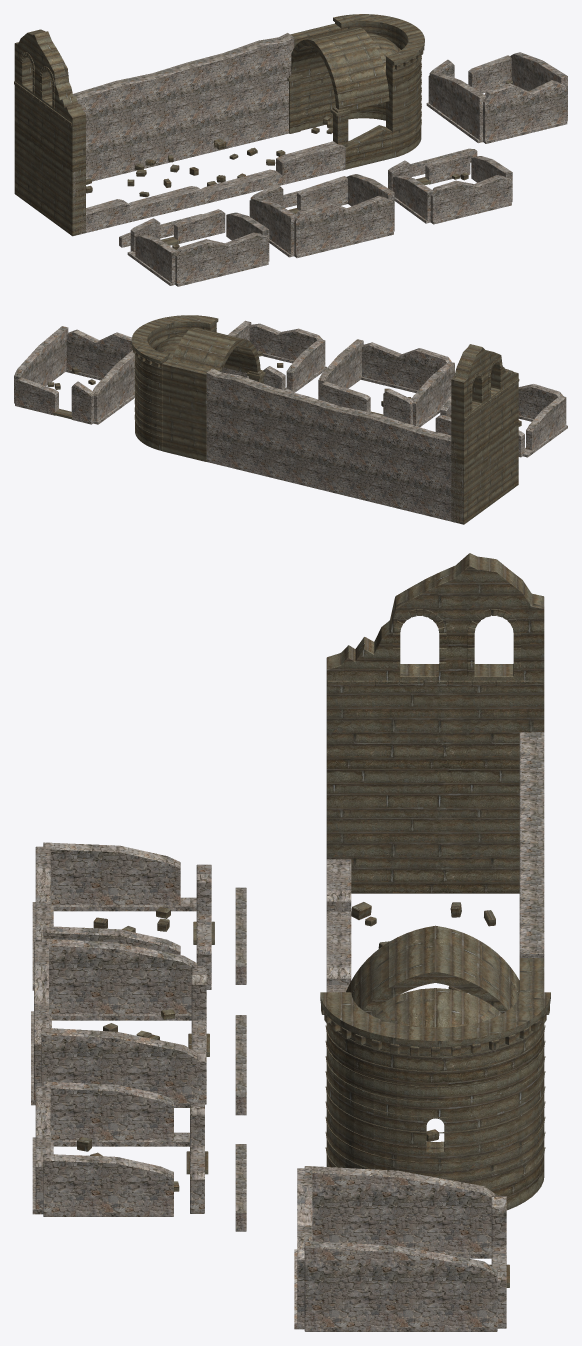
Rendered from duero76_linares512.glb.
3 renders of one model, top to bottom at view 1: azimuth 30°, elevation 25°; view 2: azimuth 150°, elevation 25°; view 3: azimuth 270°, elevation 25°, orthographic. The views are drawn at different scales.
Parts seen in each view (by area): view 1: Linares76_CC0_nave_rubble, Linares76_CC0_granite_ashlar; view 2: Linares76_CC0_nave_rubble, Linares76_CC0_granite_ashlar; view 3: Linares76_CC0_granite_ashlar, Linares76_CC0_nave_rubble.
Part boxes in pixels (x1,y1,x2,y2): Linares76_CC0_nave_rubble: (73, 33, 567, 286); Linares76_CC0_granite_ashlar: (14, 14, 512, 249); Linares76_CC0_nave_rubble: (14, 320, 567, 524); Linares76_CC0_granite_ashlar: (47, 315, 521, 524); Linares76_CC0_granite_ashlar: (77, 553, 550, 1287); Linares76_CC0_nave_rubble: (31, 732, 544, 1331).
Bounding box in the file's own units: 31.88 × 10.81 × 15.5.
Materials: 2 (2 with a texture image).
